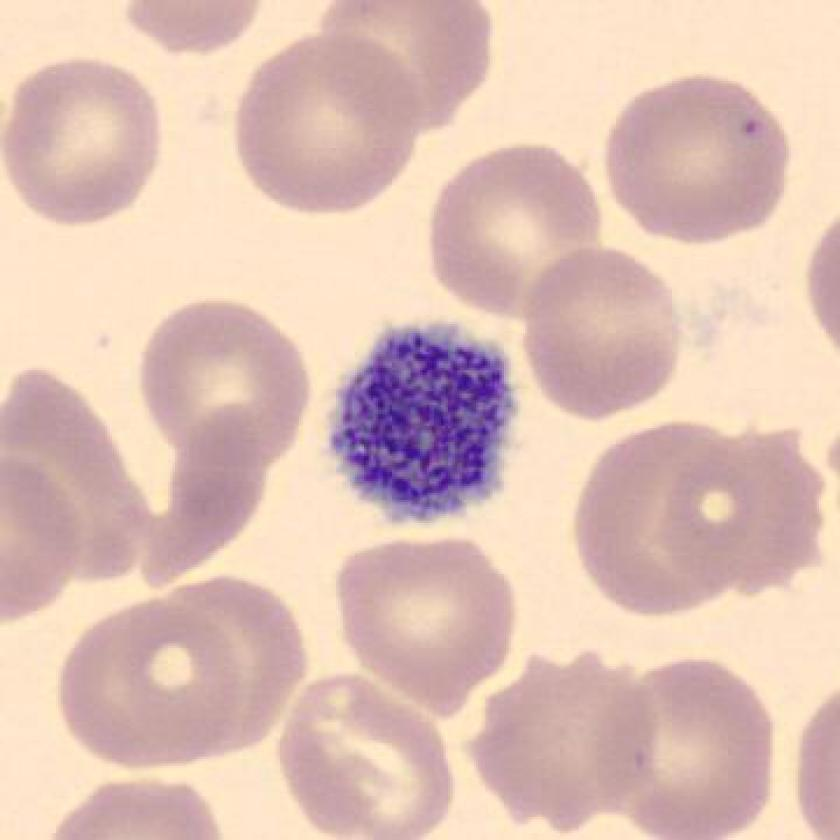platelets: (314, 302, 538, 538)
